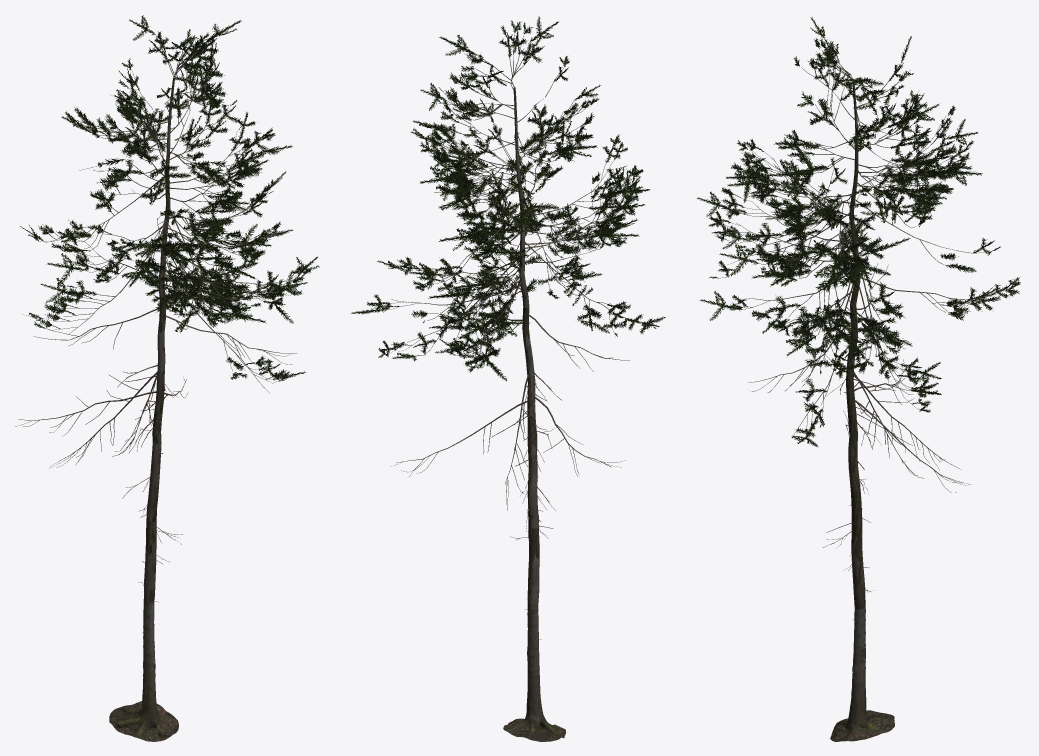
Rendered from fir-c-lod2.glb.
3 renders of one model, left to right at view 1: azimuth 30°, elevation 25°; view 2: azimuth 150°, elevation 25°; view 3: azimuth 270°, elevation 25°, orthographic. The views are drawn at different scales.
Parts seen in each view (by area): view 1: fir_c_lod2; view 2: fir_c_lod2; view 3: fir_c_lod2.
Boxes of the visible parts, box(x1,y1,x2,y2) form: fir_c_lod2: box(15, 15, 319, 741); fir_c_lod2: box(351, 16, 665, 741); fir_c_lod2: box(696, 17, 1020, 741).
Size of the model in its own units: 6.35 by 14.55 by 6.
Materials: 4 (4 with a texture image).
